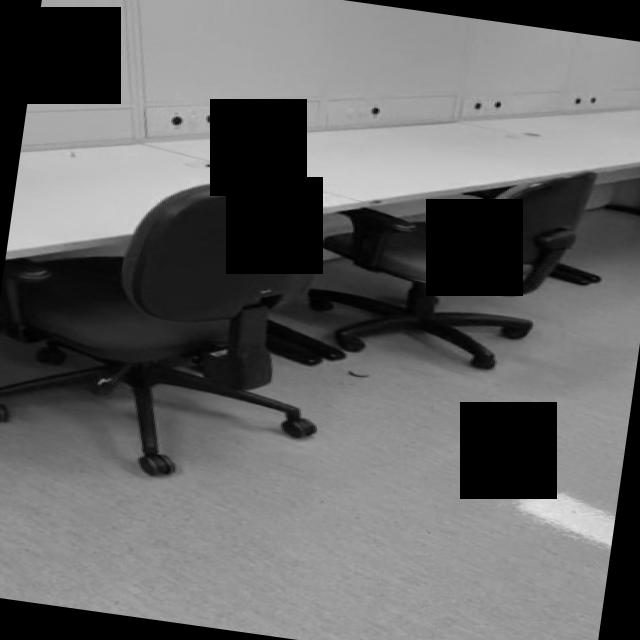cadeira-azul: (0, 145, 352, 496)
